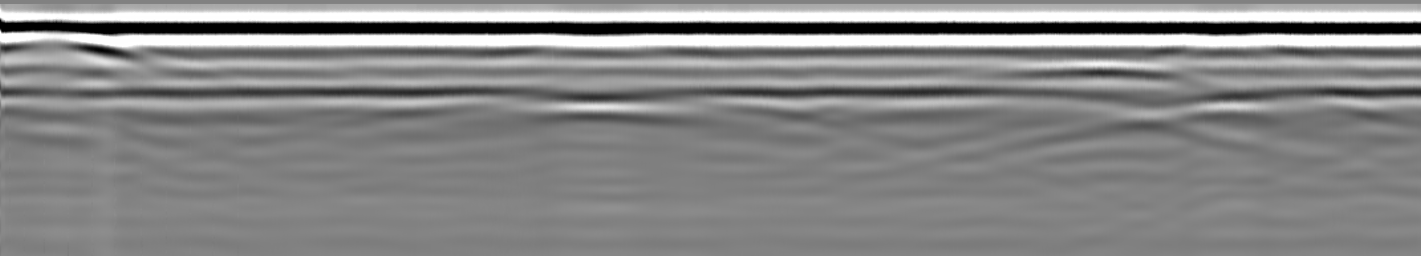pipe: (4, 21, 137, 62)
